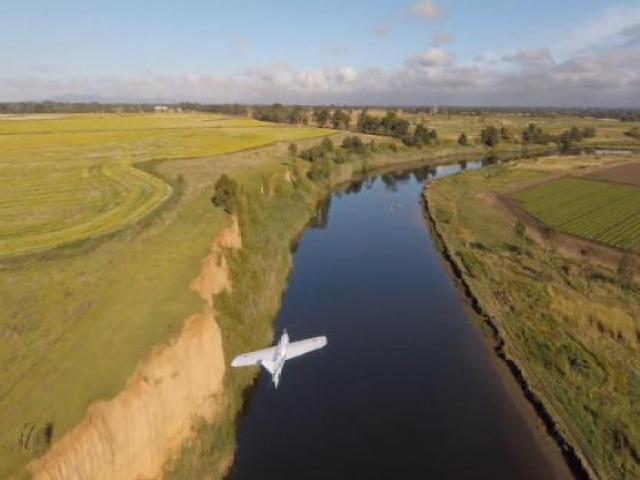uav: (230, 330, 327, 389)
